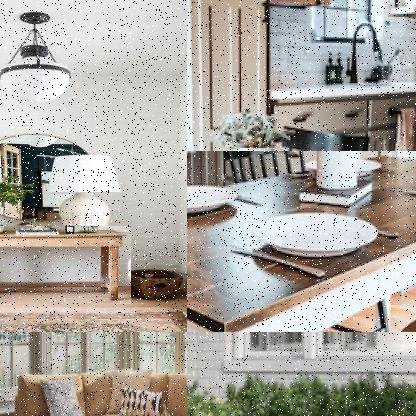table: (187, 150, 415, 331), (0, 226, 133, 306)
